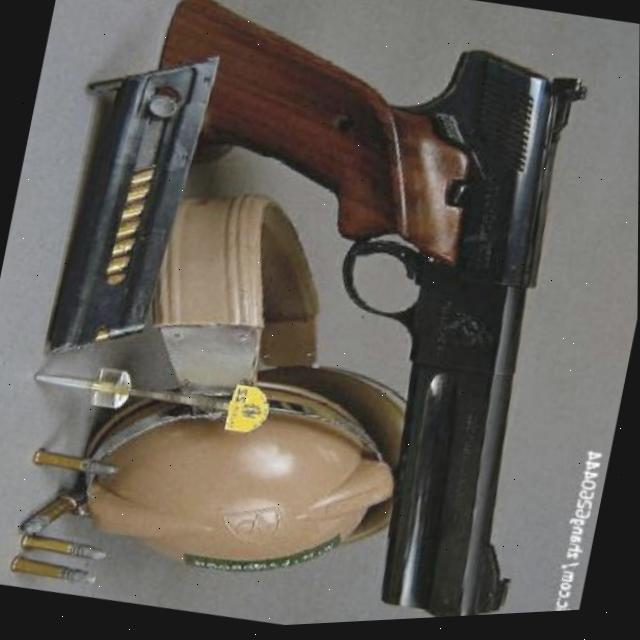gun: (49, 0, 624, 638)
